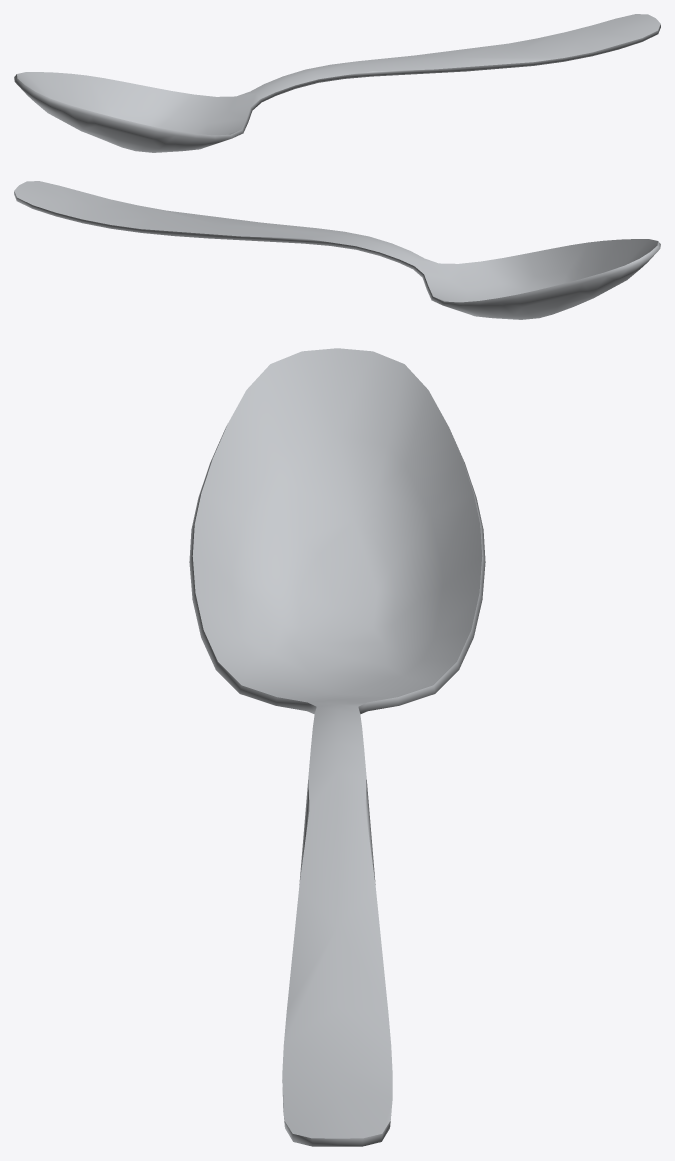
The model's file is Spoon.fbx.
3 views of the same model, one above another, from view 1: azimuth 30°, elevation 25°; view 2: azimuth 150°, elevation 25°; view 3: azimuth 270°, elevation 25° (orthographic). The views are drawn at different scales.
Parts seen in each view (by area): view 1: Spoon; view 2: Spoon; view 3: Spoon.
Boxes of the visible parts, x1,y1,x2,y2 form: Spoon: [14, 14, 660, 152]; Spoon: [14, 181, 660, 319]; Spoon: [189, 348, 485, 1146].
Bounding box in the file's own units: 18.74 × 2.73 × 3.79.
